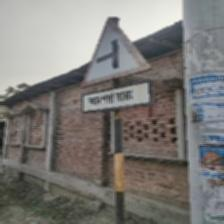Side-road-left: (80, 16, 153, 98)
